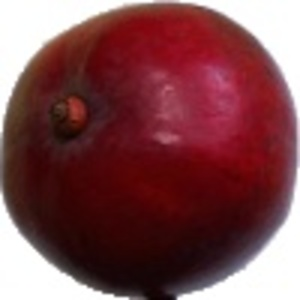manga: (1, 1, 300, 300)
